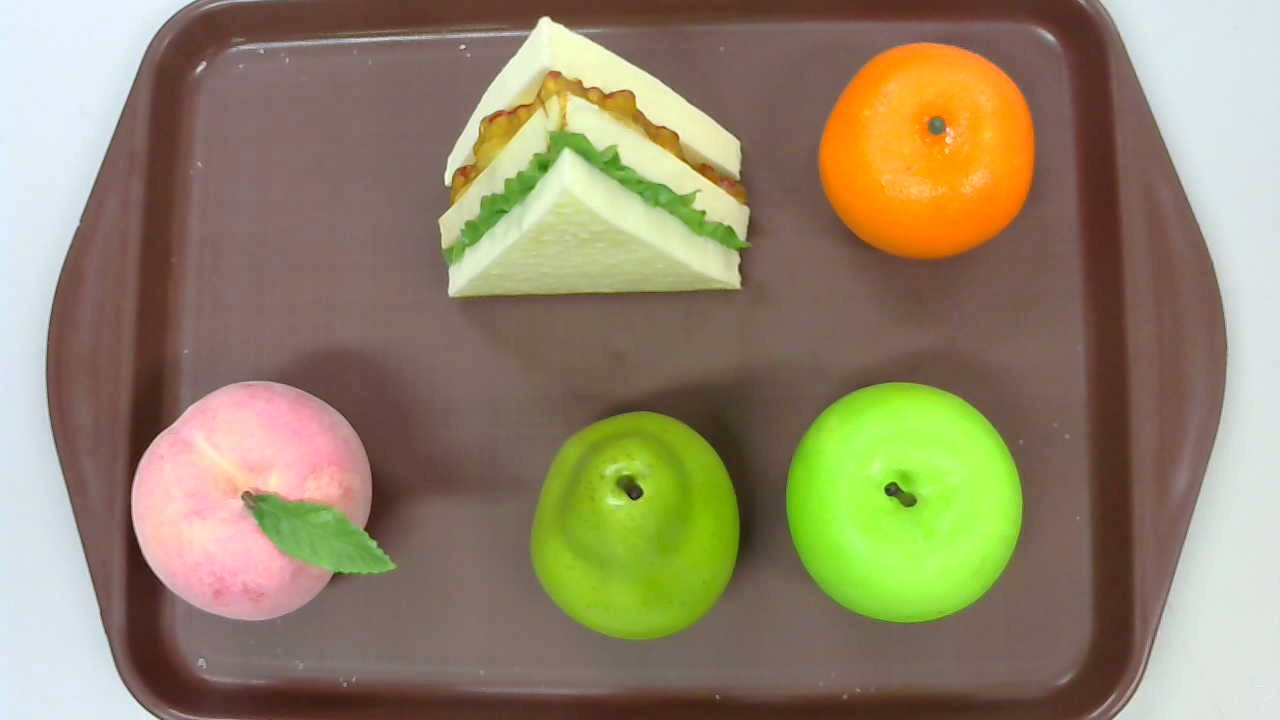green apple: (786, 381, 1022, 624)
green pear: (531, 411, 740, 641)
orange: (816, 43, 1035, 259)
peach: (131, 380, 396, 622)
sandwich: (437, 16, 752, 297)
